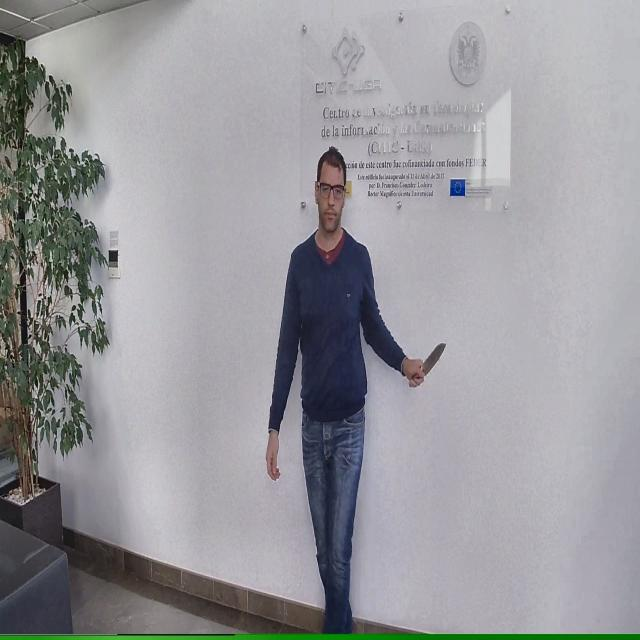knife: (407, 338, 449, 390)
